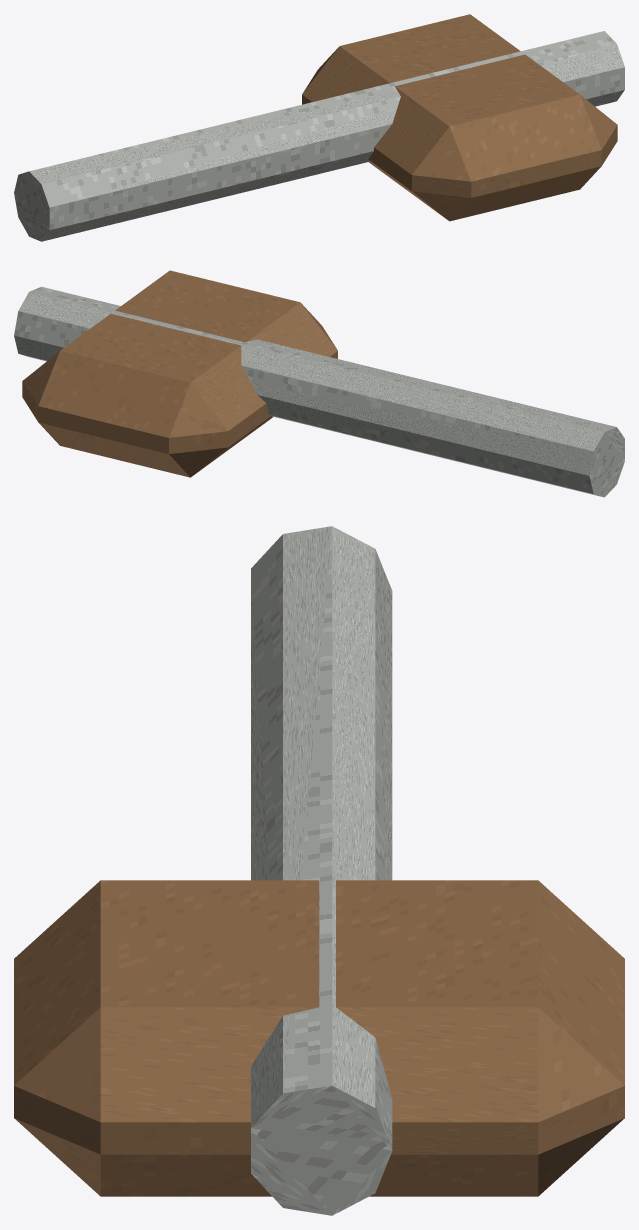
Rendered from tuning_pegs.glb.
3 views of the same model, one above another, from view 1: azimuth 30°, elevation 25°; view 2: azimuth 150°, elevation 25°; view 3: azimuth 270°, elevation 25° (orthographic). The views are drawn at different scales.
Parts seen in each view (by area): view 1: block_turning key, block_metal spindle; view 2: block_turning key, block_metal spindle; view 3: block_turning key, block_metal spindle.
Part boxes in pixels (bbox=[...]): block_turning key: bbox=[302, 14, 617, 221]; block_metal spindle: bbox=[14, 31, 624, 241]; block_turning key: bbox=[22, 270, 337, 477]; block_metal spindle: bbox=[14, 286, 624, 497]; block_turning key: bbox=[14, 880, 624, 1196]; block_metal spindle: bbox=[251, 526, 392, 1215].
Size of the model in its own units: 0.01 by 0.00159 by 0.00462.
1 material, 1 textured.
